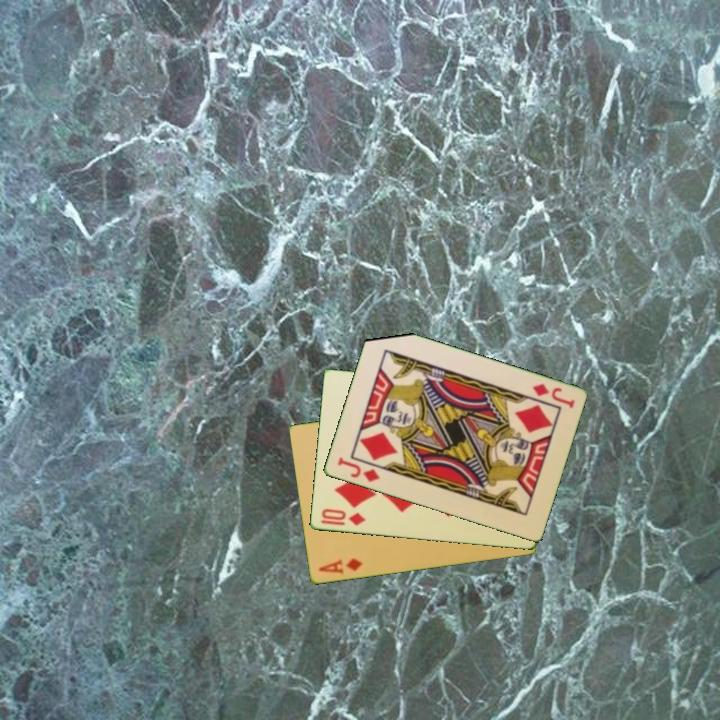10d: (317, 505, 368, 529)
Ad: (315, 555, 365, 578)
Jd: (333, 454, 383, 485), (528, 380, 577, 411)
